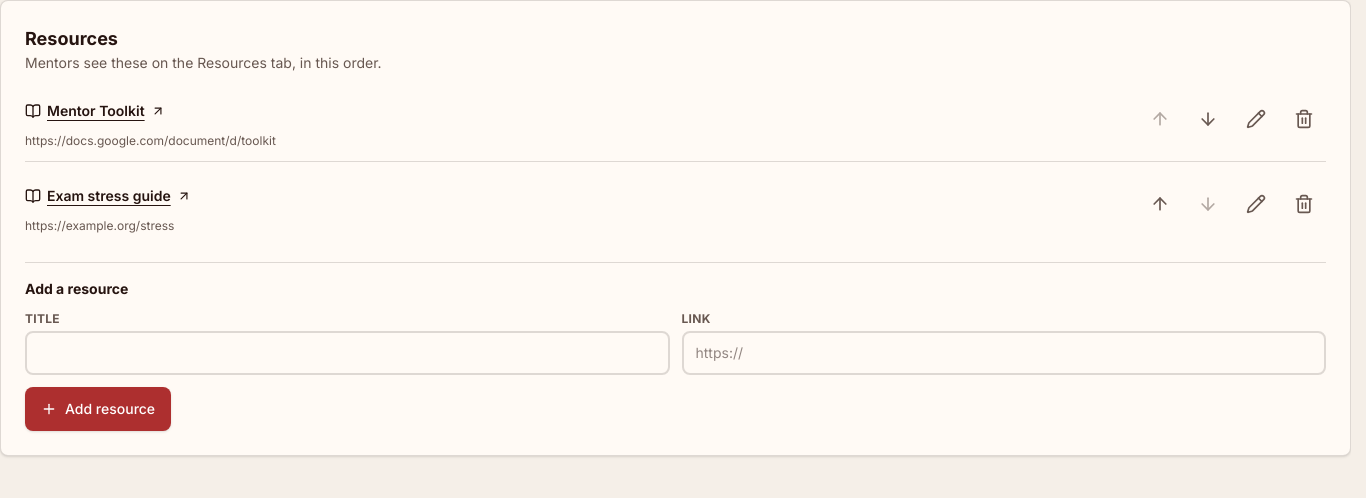
ResourcesManager › shows the server's field errors inline
This screenshot has width=1366, height=498.
Click the button "Add resource". click: [98, 409]
box: top-left (25, 387), bottom-right (171, 431)
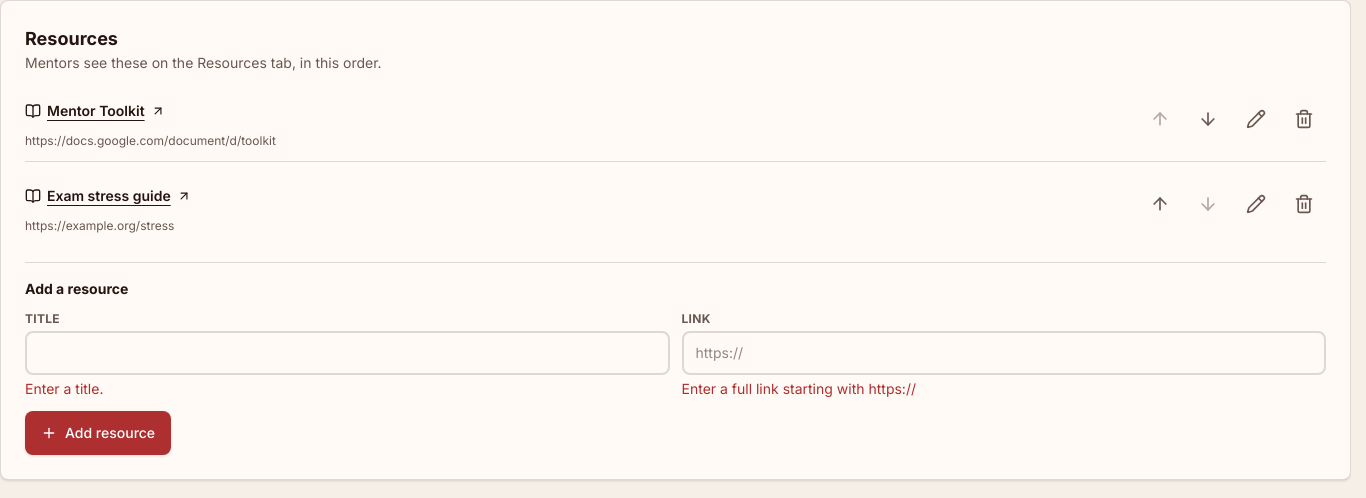
Expected: the text "Enter a title." is shown, top-left (25, 380), bottom-right (103, 397)
Expected: the text "Enter a full link starting with https://" is shown, top-left (682, 380), bottom-right (916, 397)
